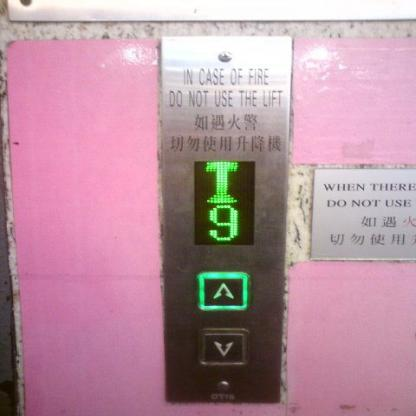down: (192, 325, 256, 371)
led: (191, 159, 257, 247)
up: (192, 270, 254, 314)
